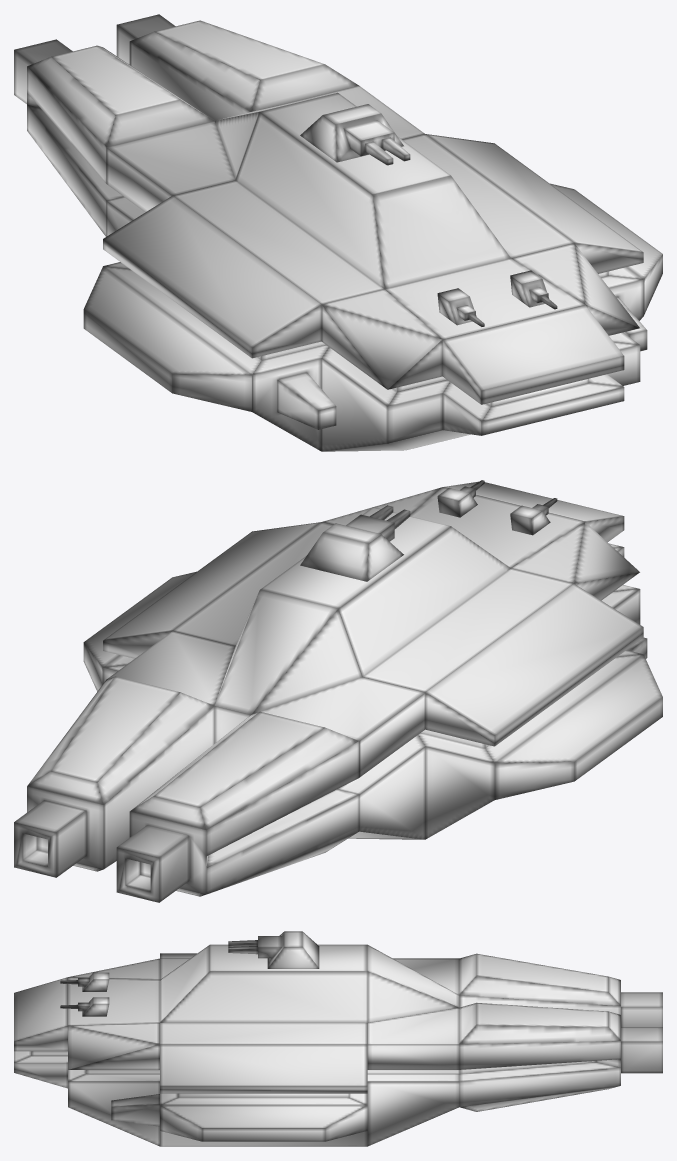
File: Mothership-01.fbx
The picture shows the model from 3 angles, top to bottom: view 1: azimuth 30°, elevation 25°; view 2: azimuth 150°, elevation 25°; view 3: azimuth 270°, elevation 25°; orthographic projection. The views are drawn at different scales.
Visible parts, largest first — view 1: Mothership, Mothership-Turrett-01, Mothership-Turrett-03, Mothership-Turrett-02; view 2: Mothership, Mothership-Turrett-01, Mothership-Turrett-02, Mothership-Turrett-03; view 3: Mothership, Mothership-Turrett-01, Mothership-Turrett-03, Mothership-Turrett-02.
Part boxes in pixels (x1,y1,x2,y2): Mothership: [14, 14, 662, 451]; Mothership-Turrett-01: [300, 104, 410, 165]; Mothership-Turrett-03: [510, 270, 557, 309]; Mothership-Turrett-02: [437, 288, 484, 326]; Mothership: [14, 481, 662, 902]; Mothership-Turrett-01: [300, 505, 410, 581]; Mothership-Turrett-02: [510, 498, 557, 535]; Mothership-Turrett-03: [437, 480, 484, 517]; Mothership: [14, 944, 662, 1146]; Mothership-Turrett-01: [228, 931, 319, 968]; Mothership-Turrett-03: [60, 997, 109, 1016]; Mothership-Turrett-02: [60, 972, 109, 991].
Bounding box in the file's own units: 1.82 × 0.9083 × 3.
